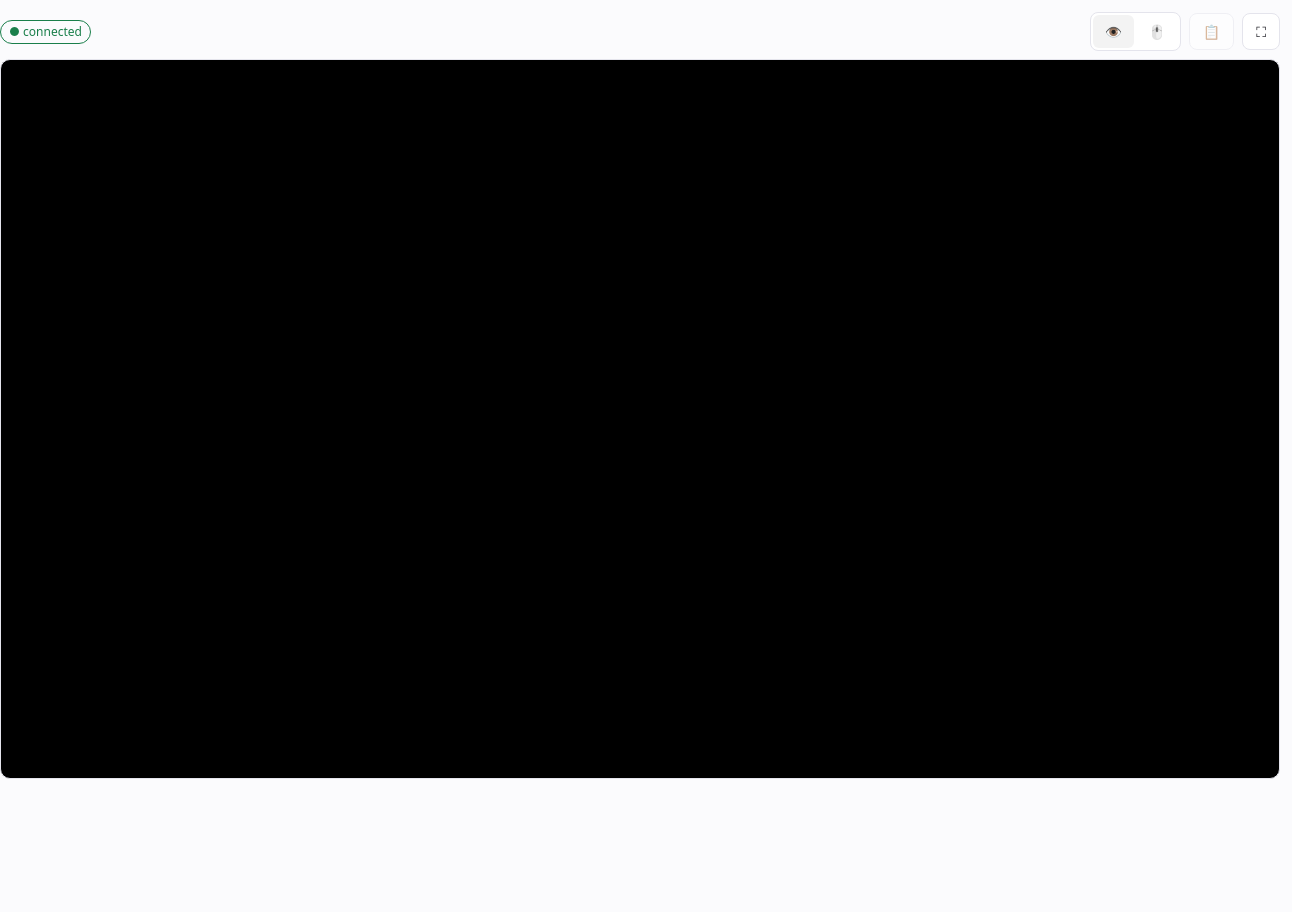
Test: Control gets the outline and opens the paste popover
This screenshot has width=1292, height=912.
Check: the text "● connected" is shown, box [0, 20, 91, 44]
What coordinates should you click on to do the following:
click the button named "Control"
I would click on:
 (1157, 32)
Its box is [1136, 15, 1178, 48].
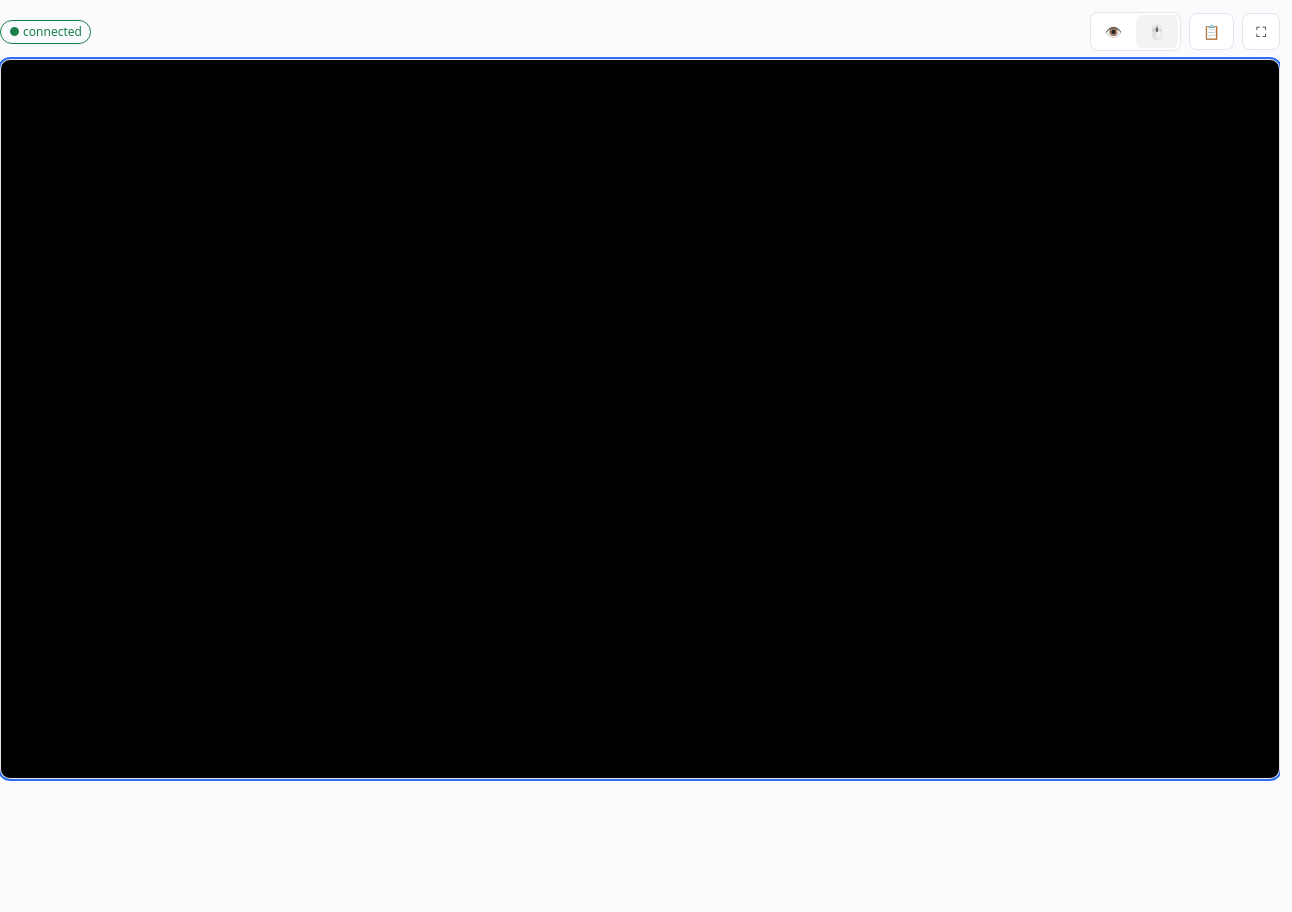
What coordinates should you click on to do the following:
click the button named "Paste"
I would click on:
 (1211, 32)
Its box is [1189, 13, 1234, 50].
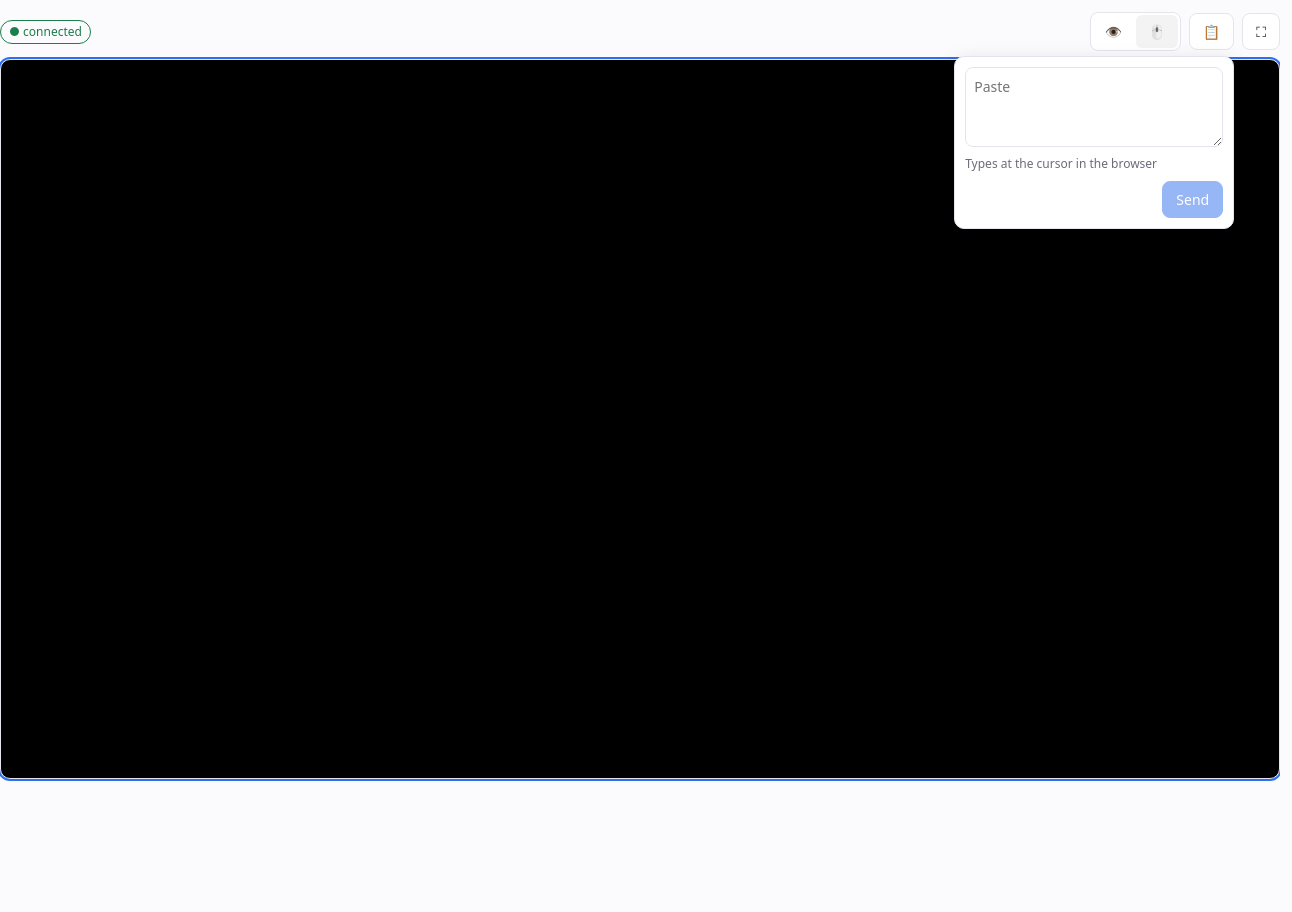
Check: the text "Types at the cursor in the browser" is shown, box [965, 155, 1157, 173]
